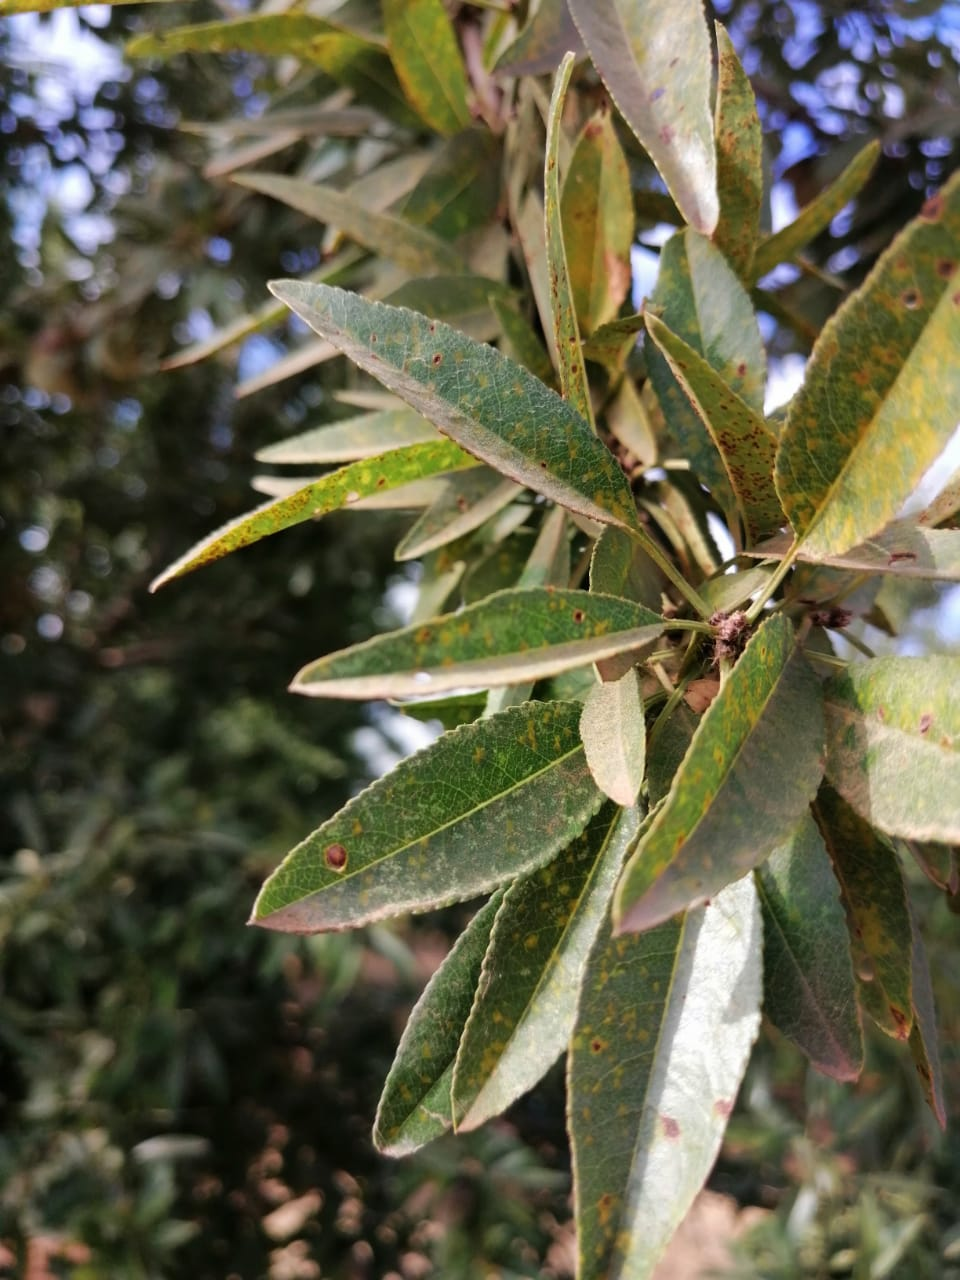rouille: (267, 277, 641, 533), (569, 792, 764, 1280), (245, 698, 602, 934), (774, 175, 960, 564), (607, 614, 832, 933), (453, 800, 644, 1135), (148, 441, 483, 595), (286, 585, 668, 698), (564, 1, 721, 237), (795, 794, 918, 1046), (646, 314, 781, 544), (829, 657, 960, 844), (711, 17, 774, 290), (561, 108, 632, 338)
